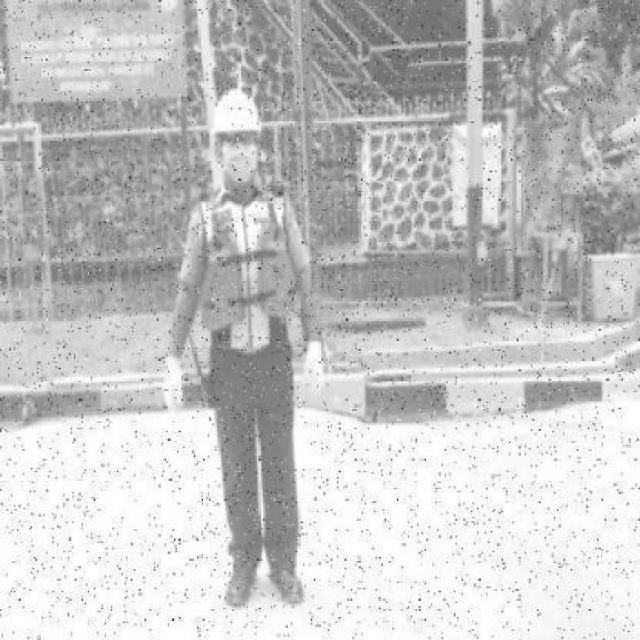Boots: (221, 556, 261, 610), (266, 557, 306, 608)
Gloves: (298, 334, 329, 401), (159, 354, 187, 418)
Helmet: (210, 89, 261, 134)
Mask: (220, 145, 258, 183)
Protective Glasses: (217, 129, 266, 146)
Vest: (196, 222, 302, 333)
